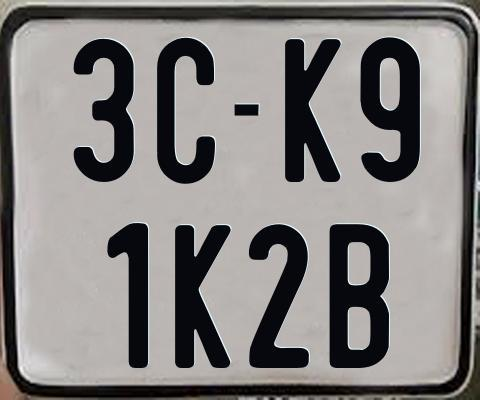1: (107, 223, 151, 373)
2: (246, 222, 310, 367)
3: (70, 39, 133, 182)
9: (357, 37, 423, 182)
B: (328, 223, 393, 368)
C: (154, 37, 218, 185)
K: (174, 223, 235, 370), (283, 36, 339, 181)
